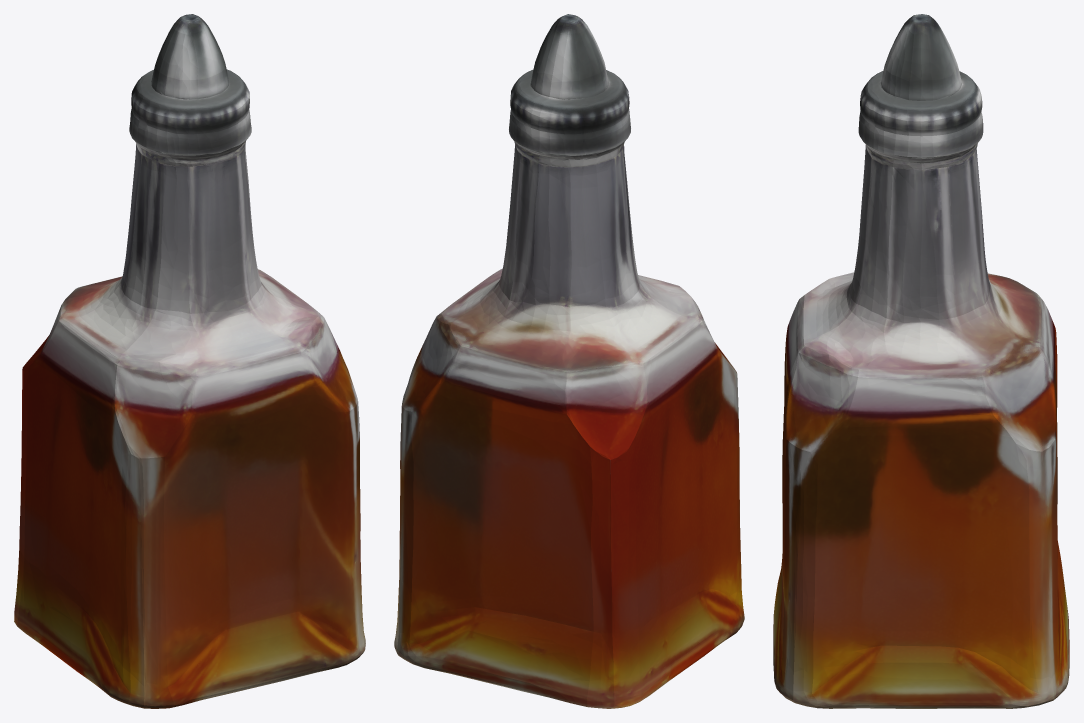
File: fishsauce.glb
3 renders of one model, left to right at view 1: azimuth 30°, elevation 25°; view 2: azimuth 150°, elevation 25°; view 3: azimuth 270°, elevation 25°, orthographic. The views are drawn at different scales.
Parts seen in each view (by area): view 1: world; view 2: world; view 3: world.
Part boxes in pixels (bbox=[...]): world: bbox=[14, 14, 365, 708]; world: bbox=[394, 14, 744, 708]; world: bbox=[773, 14, 1069, 708].
Bounding box in the file's own units: 0.4215 × 0.9964 × 0.4213.
Materials: 1 (1 with a texture image).
